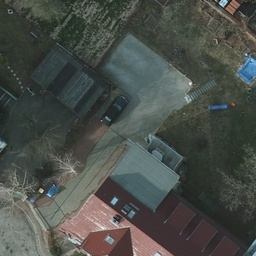car: (98, 94, 126, 128)
